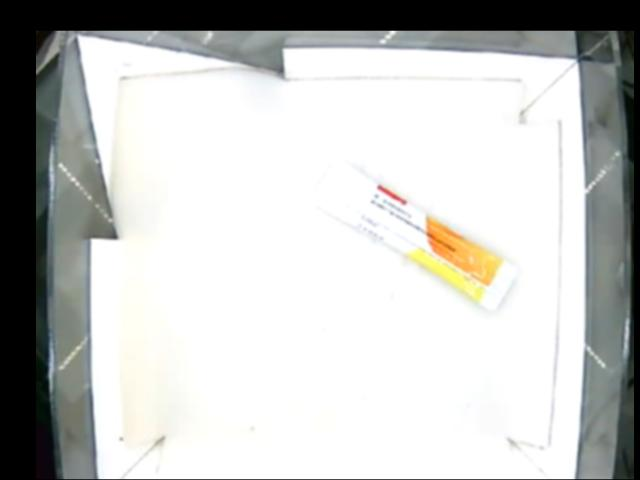Medicine: (312, 155, 519, 309)
